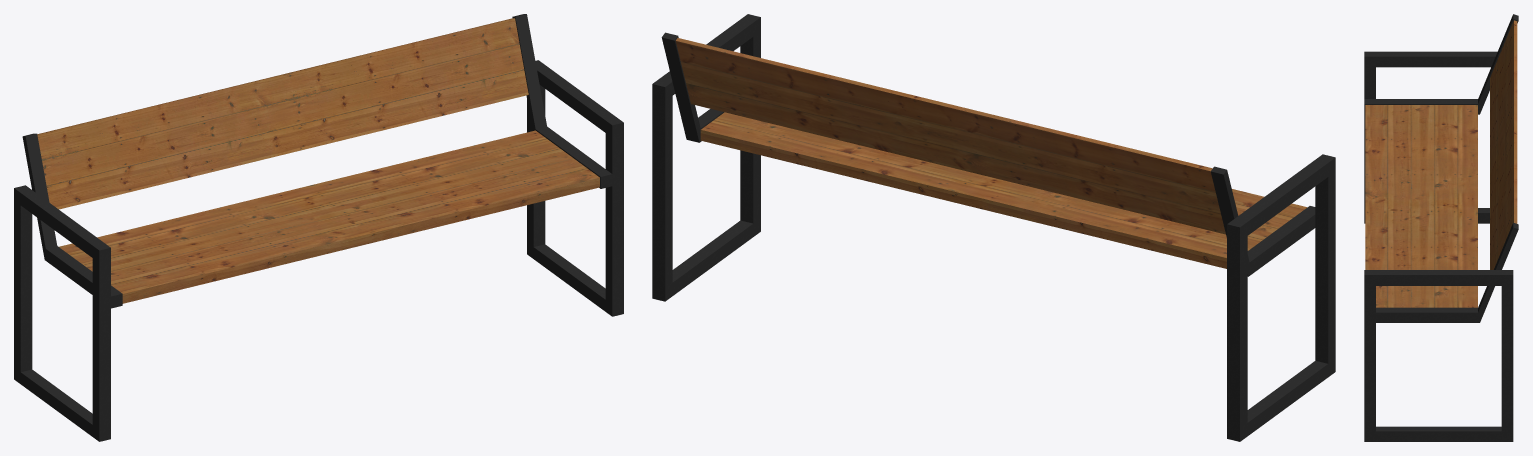
Rendered from Lavička3.obj.
The picture shows the model from 3 angles, left to right: view 1: azimuth 30°, elevation 25°; view 2: azimuth 150°, elevation 25°; view 3: azimuth 270°, elevation 25°; orthographic projection. The views are drawn at different scales.
Visible parts, largest first — view 1: Mesh1 Group1 Model; view 2: Mesh1 Group1 Model; view 3: Mesh1 Group1 Model.
Boxes of the visible parts, left/top/right/bottom form: Mesh1 Group1 Model: left=14, top=14, right=623, bottom=441; Mesh1 Group1 Model: left=652, top=14, right=1335, bottom=441; Mesh1 Group1 Model: left=1364, top=14, right=1518, bottom=441.
Bounding box in the file's own units: 2.27 × 0.9933 × 0.6634.
Materials: 3 (2 with a texture image).
